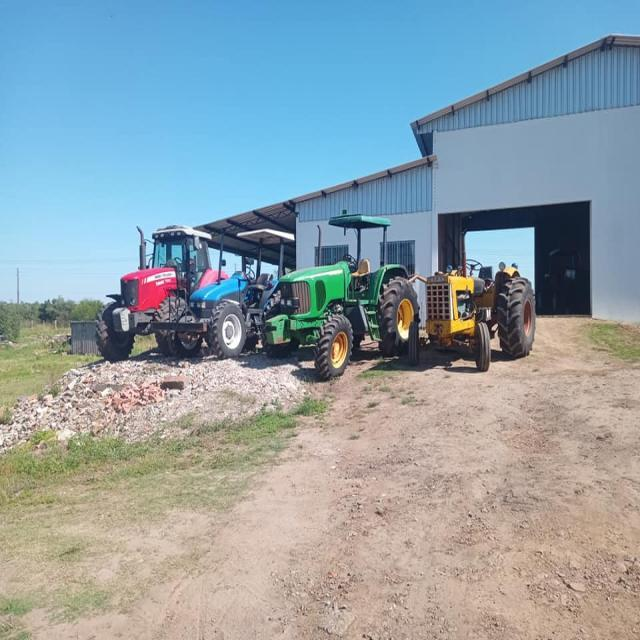Tratores - v5 YOLO V8L 2024-11-13: (268, 214, 420, 382), (91, 217, 208, 364), (408, 258, 536, 369), (192, 226, 292, 361)
